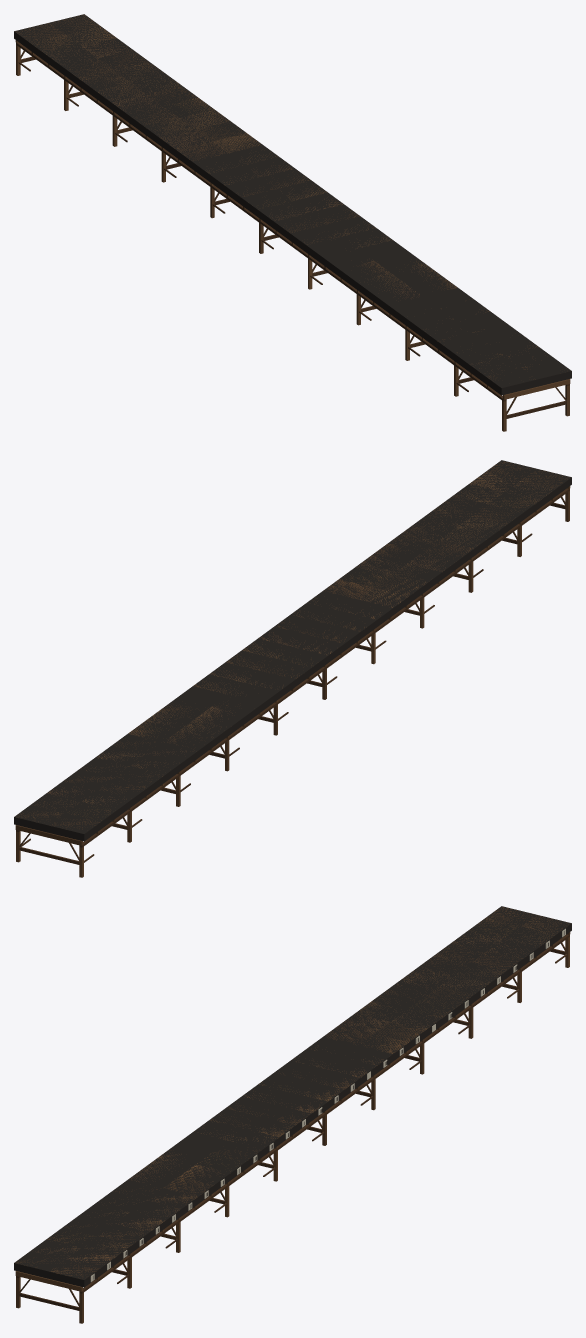
File: crew_bunk_ledge.glb
The picture shows the model from 3 angles, top to bottom: view 1: azimuth 30°, elevation 25°; view 2: azimuth 150°, elevation 25°; view 3: azimuth 330°, elevation 25°; orthographic projection.
Visible parts, largest first — view 1: crew_bunk_ledge-col-col, crew_bunk_ledge_body; view 2: crew_bunk_ledge-col-col, crew_bunk_ledge_body; view 3: crew_bunk_ledge-col-col, crew_bunk_ledge_body.
Boxes of the visible parts, x1,y1,x2,y2 form: crew_bunk_ledge-col-col: (14, 14, 571, 395); crew_bunk_ledge_body: (15, 14, 570, 431); crew_bunk_ledge-col-col: (14, 460, 571, 841); crew_bunk_ledge_body: (14, 461, 570, 877); crew_bunk_ledge-col-col: (14, 906, 571, 1287); crew_bunk_ledge_body: (15, 907, 570, 1323).
Size of the model in its own units: 10.08 by 6 by 120.
